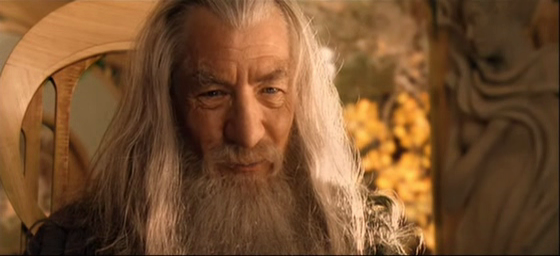cu: (1, 1, 560, 256)
face: (176, 30, 298, 214)
person: (21, 1, 432, 256)
